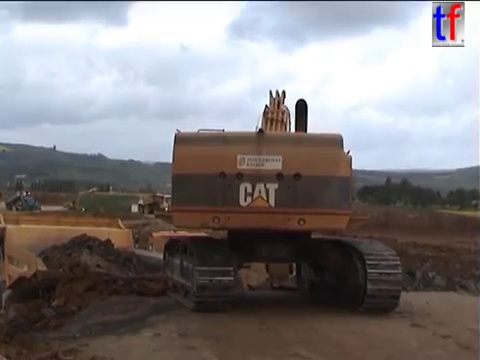excavator: (159, 86, 408, 319)
truck: (1, 213, 215, 360), (144, 227, 237, 303), (129, 192, 174, 216)
